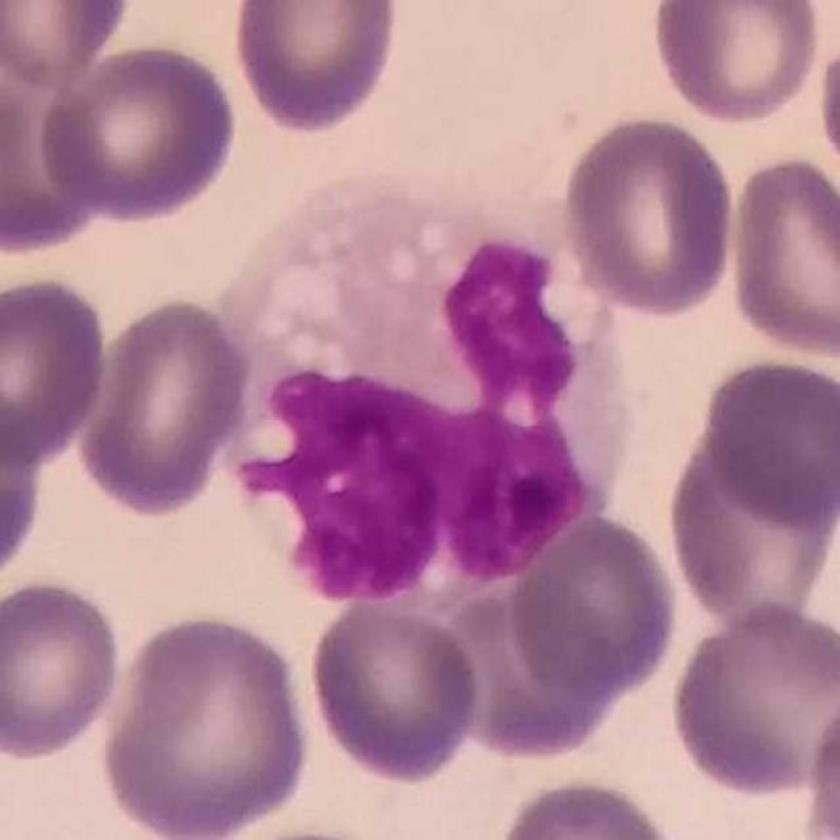monocyte: (202, 165, 639, 626)
